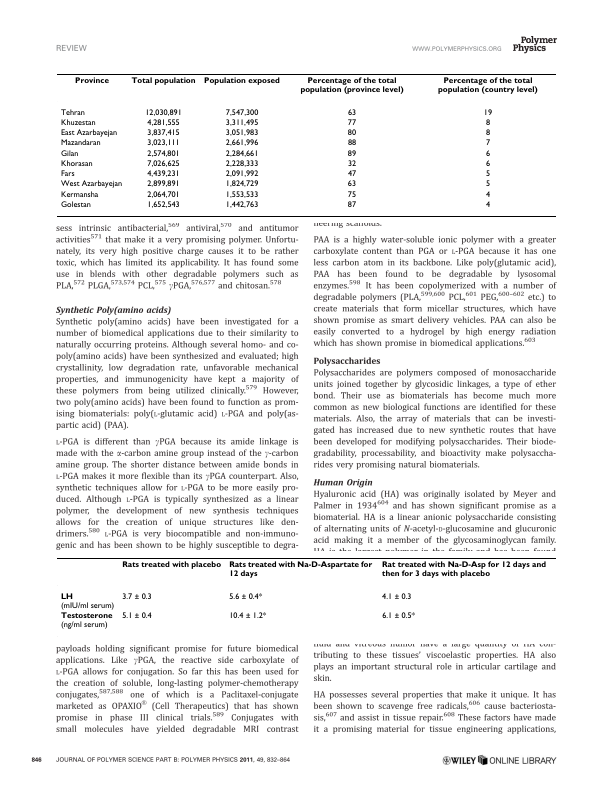borderless: (56, 72, 556, 216), (55, 556, 557, 638)
cell: (381, 561, 546, 579), (228, 561, 373, 579), (299, 77, 404, 95), (437, 77, 538, 95), (59, 592, 115, 611), (59, 612, 113, 630), (121, 561, 222, 570), (203, 77, 280, 86), (130, 77, 196, 86), (59, 180, 123, 189), (59, 129, 118, 138), (59, 190, 99, 200), (228, 611, 267, 621), (144, 108, 182, 118), (59, 139, 101, 148), (59, 118, 96, 128), (228, 592, 263, 602), (224, 108, 259, 118), (224, 118, 259, 128), (224, 149, 259, 159), (224, 159, 259, 169), (224, 190, 259, 200), (224, 200, 259, 210), (381, 611, 415, 621), (146, 118, 180, 128), (146, 149, 180, 159), (59, 159, 93, 169), (146, 159, 180, 169), (146, 190, 180, 200), (146, 200, 180, 210), (59, 200, 91, 210), (74, 77, 109, 86), (224, 129, 259, 138), (224, 139, 259, 148), (224, 170, 259, 179), (224, 180, 259, 189), (121, 592, 152, 602), (381, 592, 412, 602), (121, 611, 152, 621), (146, 129, 180, 138), (146, 139, 180, 148), (146, 170, 180, 179), (146, 180, 180, 189), (59, 108, 85, 118), (59, 149, 79, 159), (59, 170, 75, 179), (346, 108, 357, 118), (482, 108, 493, 118), (346, 118, 357, 128), (346, 149, 357, 159), (346, 159, 357, 169), (346, 190, 357, 200), (346, 200, 357, 210), (346, 129, 357, 138), (346, 139, 357, 148), (346, 170, 357, 179), (346, 180, 357, 189), (484, 159, 491, 169), (484, 200, 491, 210), (484, 129, 491, 138), (484, 139, 491, 148), (484, 170, 491, 179), (484, 180, 491, 189), (484, 118, 490, 128), (484, 149, 490, 159), (484, 190, 490, 200)
